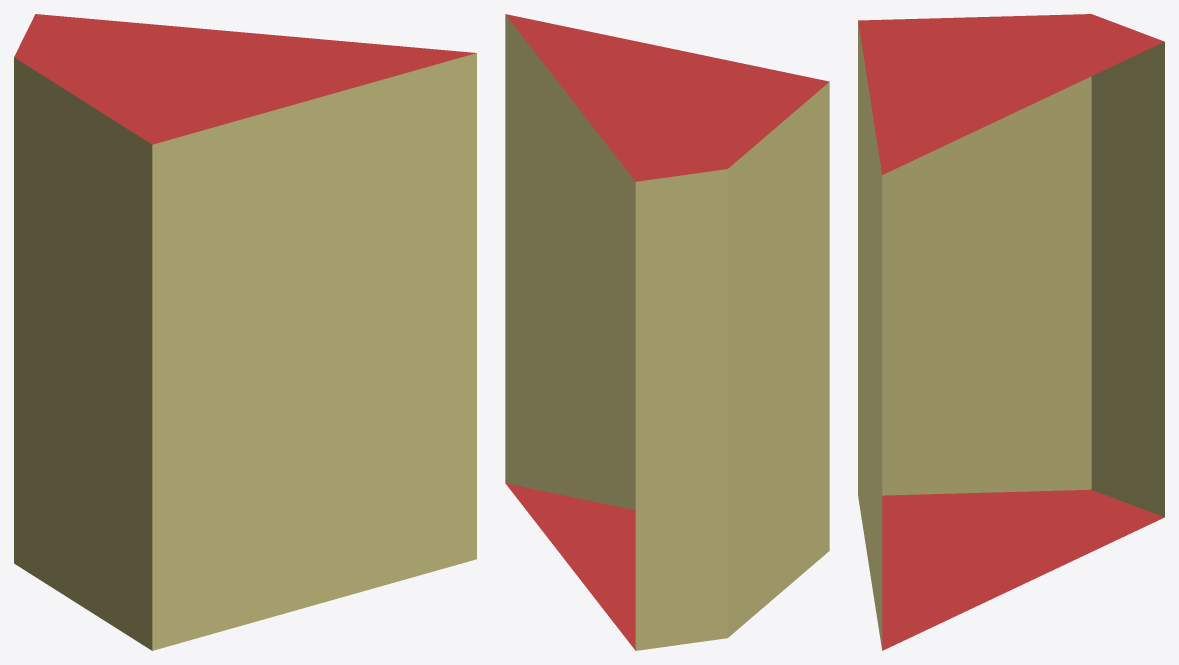
3 views of the same model, side by side, from view 1: azimuth 30°, elevation 25°; view 2: azimuth 150°, elevation 25°; view 3: azimuth 270°, elevation 25° (orthographic). The views are drawn at different scales.
Bounding box in the file's own units: 7.56 × 6.08 × 10.41.
